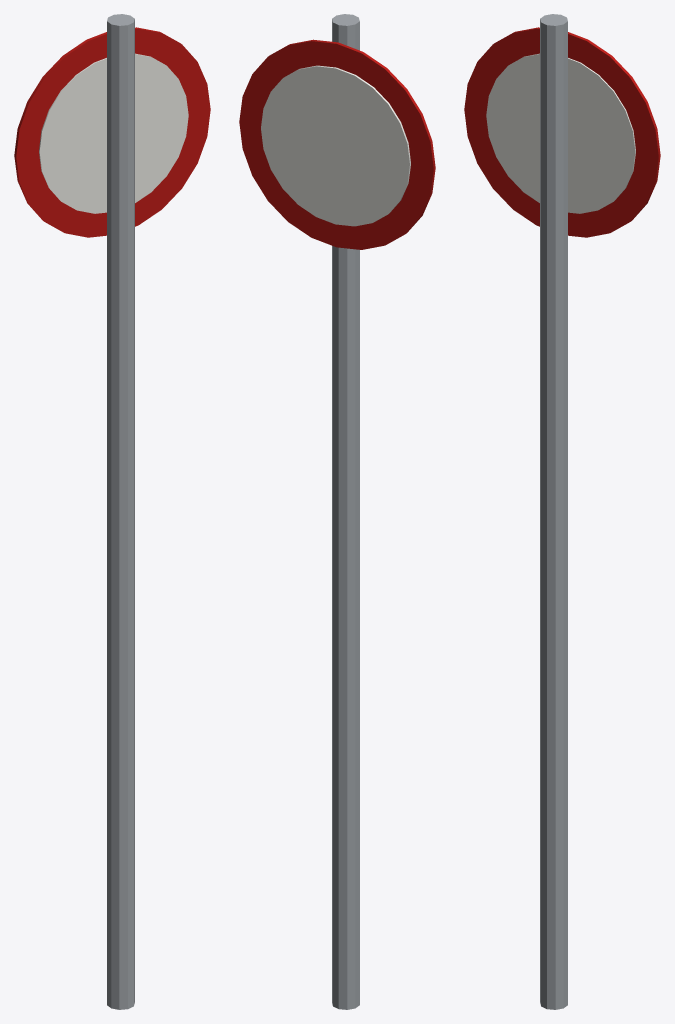
Rendered from street.traffic.sign_round.glb.
3 renders of one model, left to right at view 1: azimuth 30°, elevation 25°; view 2: azimuth 150°, elevation 25°; view 3: azimuth 330°, elevation 25°, orthographic.
Visible parts, largest first — view 1: main__steel_galvanised, main__paint_white, main__hazard_red; view 2: main__steel_galvanised, main__paint_white, main__hazard_red; view 3: main__steel_galvanised, main__paint_white, main__hazard_red.
Part boxes in pixels (left/top/right/bottom): main__steel_galvanised: left=107, top=14, right=134, bottom=1009; main__paint_white: left=39, top=53, right=188, bottom=213; main__hazard_red: left=14, top=27, right=210, bottom=237; main__steel_galvanised: left=332, top=14, right=359, bottom=1009; main__paint_white: left=261, top=65, right=410, bottom=226; main__hazard_red: left=239, top=39, right=435, bottom=249; main__steel_galvanised: left=540, top=14, right=567, bottom=1009; main__paint_white: left=486, top=53, right=635, bottom=213; main__hazard_red: left=464, top=27, right=660, bottom=237.
Size of the model in its own units: 0.6 by 2.9 by 0.094.
